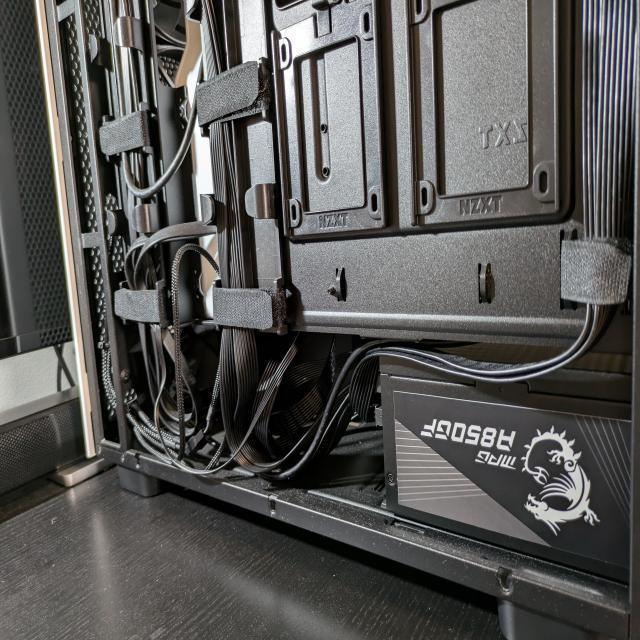PSU: (379, 346, 628, 586)
